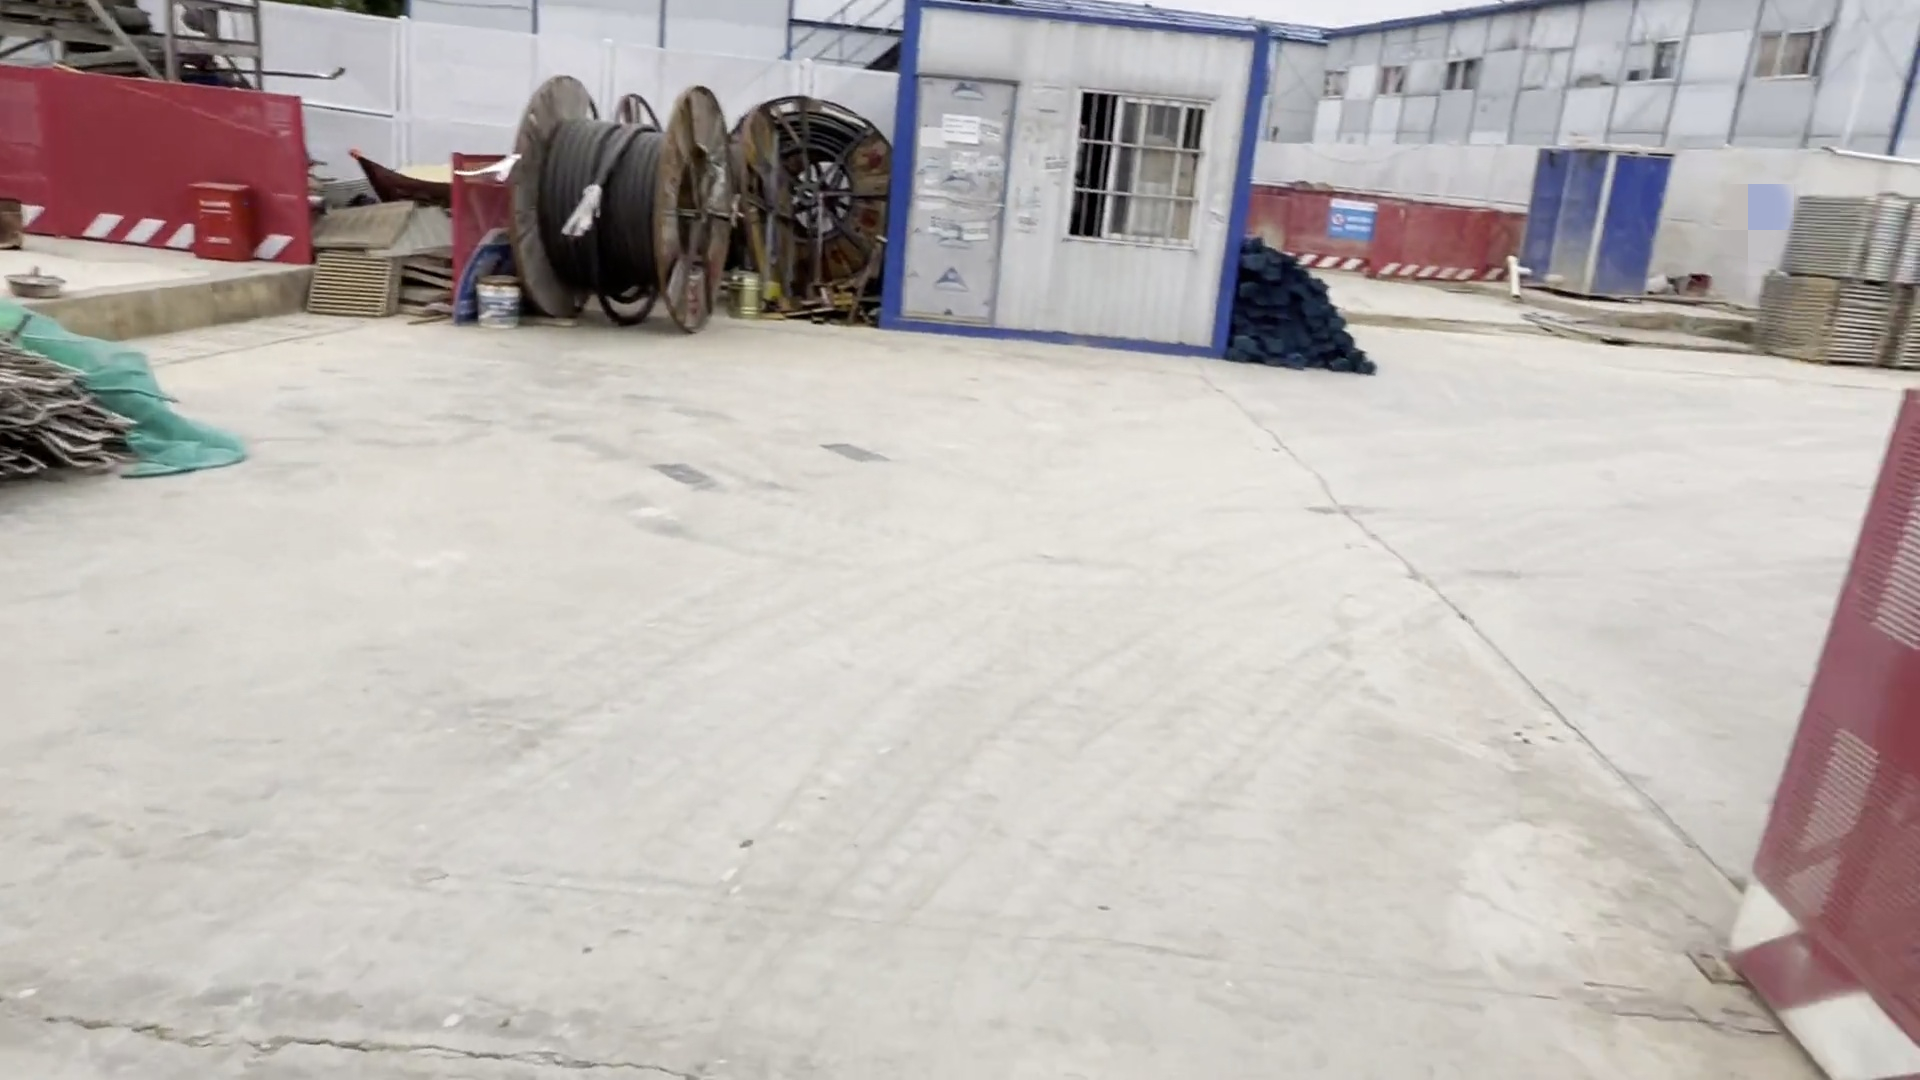fence: (3, 65, 320, 301), (1254, 185, 1523, 290)
